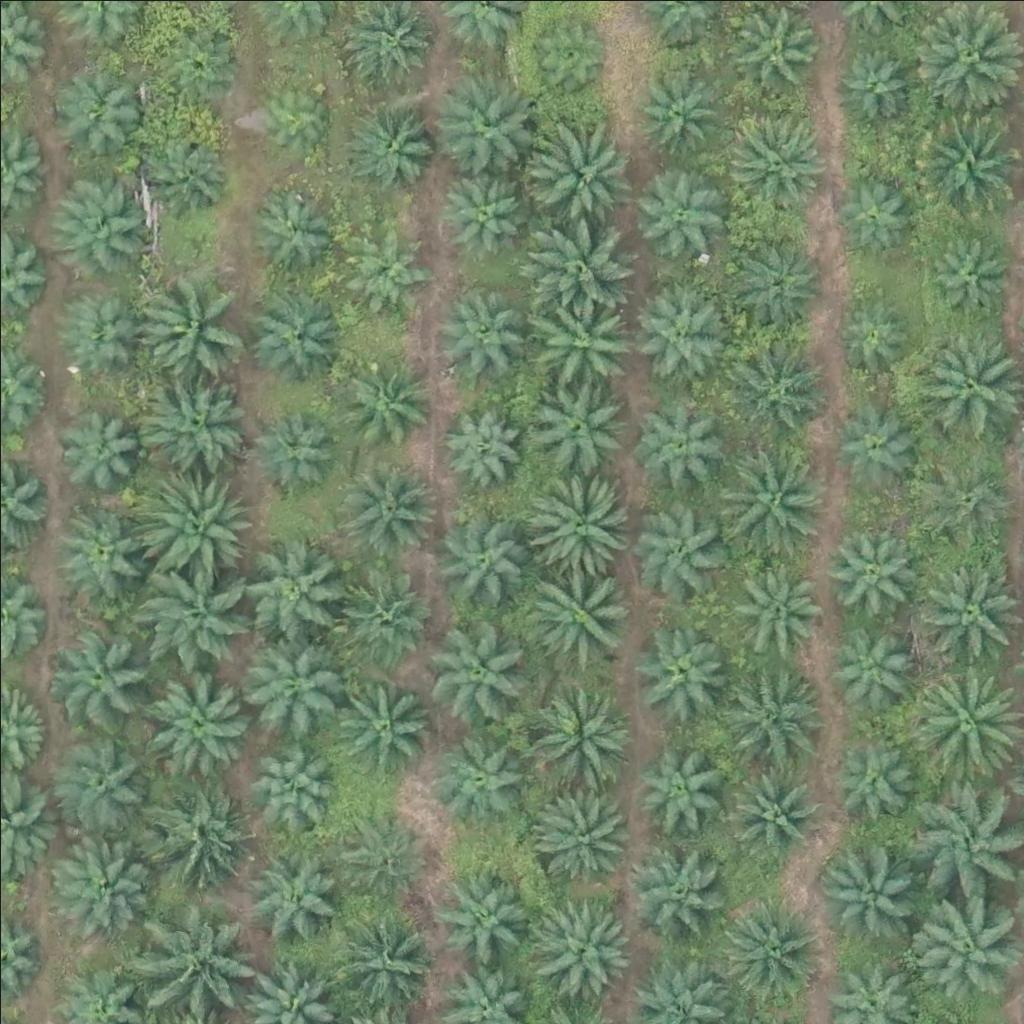Kelapa_Sawit: (418, 613, 531, 727), (907, 335, 1020, 448), (137, 557, 250, 670), (712, 660, 825, 773), (713, 438, 826, 551), (138, 898, 250, 1012), (908, 885, 1020, 998), (909, 102, 1021, 215), (141, 464, 253, 577), (520, 463, 632, 576), (911, 666, 1023, 779), (820, 848, 920, 949), (532, 781, 632, 882), (534, 901, 634, 1002), (434, 865, 534, 966), (332, 810, 432, 911), (330, 907, 430, 1008), (243, 842, 343, 943), (152, 778, 252, 879), (57, 830, 157, 931), (725, 333, 825, 434), (724, 116, 824, 217), (633, 282, 733, 383), (532, 282, 632, 383), (534, 129, 634, 230), (431, 73, 531, 174), (138, 271, 238, 372), (131, 123, 231, 224), (48, 622, 148, 723), (51, 500, 151, 601), (149, 674, 249, 775), (242, 630, 342, 731), (331, 673, 431, 774), (524, 380, 624, 481), (630, 393, 730, 494), (626, 497, 726, 598), (631, 619, 731, 720), (724, 560, 824, 661), (723, 895, 823, 995), (628, 839, 728, 939), (434, 728, 534, 828), (57, 733, 157, 833), (527, 212, 627, 312), (248, 281, 348, 381), (241, 177, 341, 277), (48, 170, 148, 270), (147, 369, 247, 469), (237, 532, 337, 632), (338, 457, 438, 557), (331, 565, 431, 665), (534, 684, 634, 784), (530, 569, 630, 669), (344, 96, 432, 185), (826, 736, 914, 824), (732, 772, 820, 860), (633, 741, 721, 829), (729, 229, 817, 317), (434, 162, 522, 250), (341, 354, 429, 442), (341, 227, 429, 315), (148, 12, 236, 100), (58, 285, 146, 373), (57, 64, 145, 152), (254, 401, 342, 489), (828, 402, 916, 490), (923, 454, 1011, 542), (633, 71, 720, 160), (826, 527, 913, 616), (247, 731, 334, 819), (920, 232, 1007, 320), (827, 289, 914, 377), (830, 168, 917, 256), (825, 38, 912, 126), (633, 162, 720, 250), (527, 3, 614, 91), (438, 283, 525, 371), (57, 406, 144, 494), (437, 511, 524, 599), (436, 403, 523, 491), (830, 617, 917, 705), (254, 76, 329, 152)
